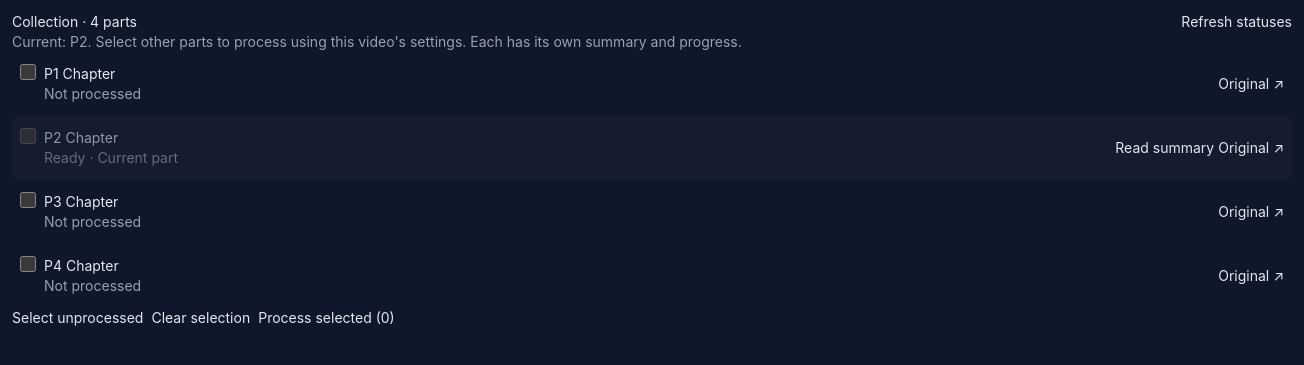
Scenario: times out an unconfirmed submission without submitting the remaining parts
Click the button "Select unprocessed".
click(78, 318)  # box 12,308 -> 144,328
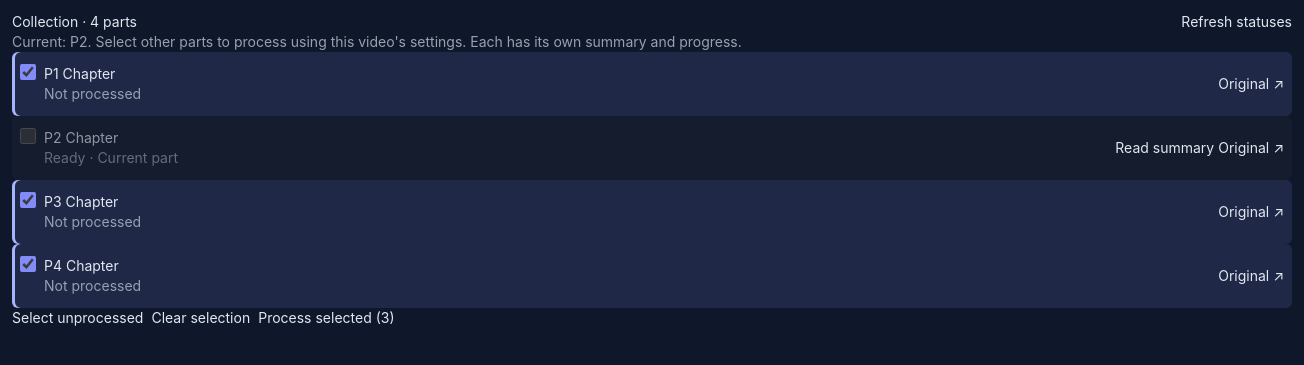
Click the button "Process selected (3)".
click(326, 318)  # box 258,308 -> 394,328
Wait 60000 ms
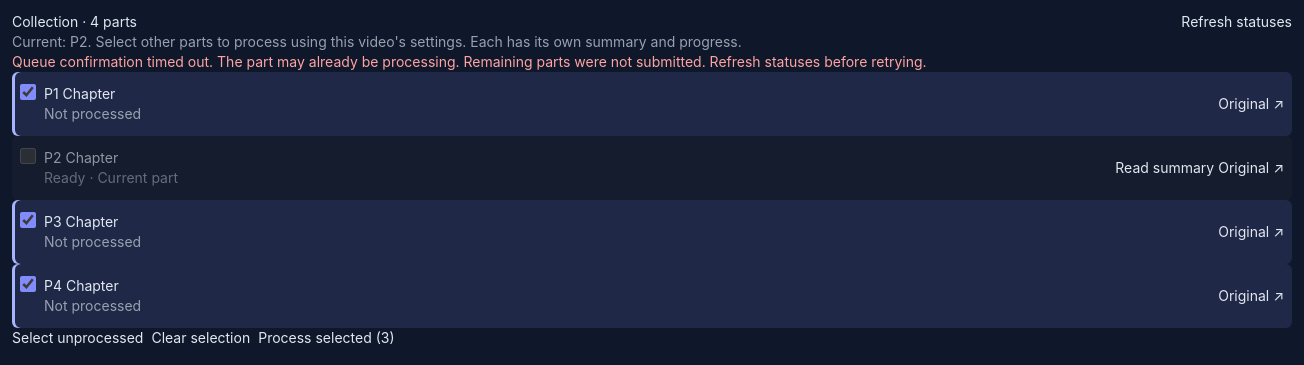
Expected: the button "Refresh statuses" is enabled, 1181,12 -> 1292,32
Now the message shows "Queue confirmation timed out", box 12,53 -> 927,70
Now the button "Process selected (3)" is disabled, box 258,328 -> 394,348
